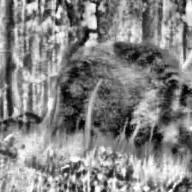boar: (37, 22, 192, 170)
